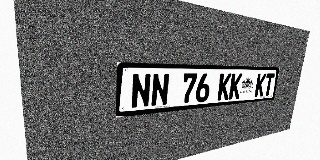6: (195, 73, 211, 103)
7: (180, 73, 197, 104)
K: (217, 73, 232, 101), (229, 73, 243, 99), (254, 73, 267, 97)
N: (131, 73, 151, 109), (150, 73, 170, 107)
T: (263, 73, 275, 96)
